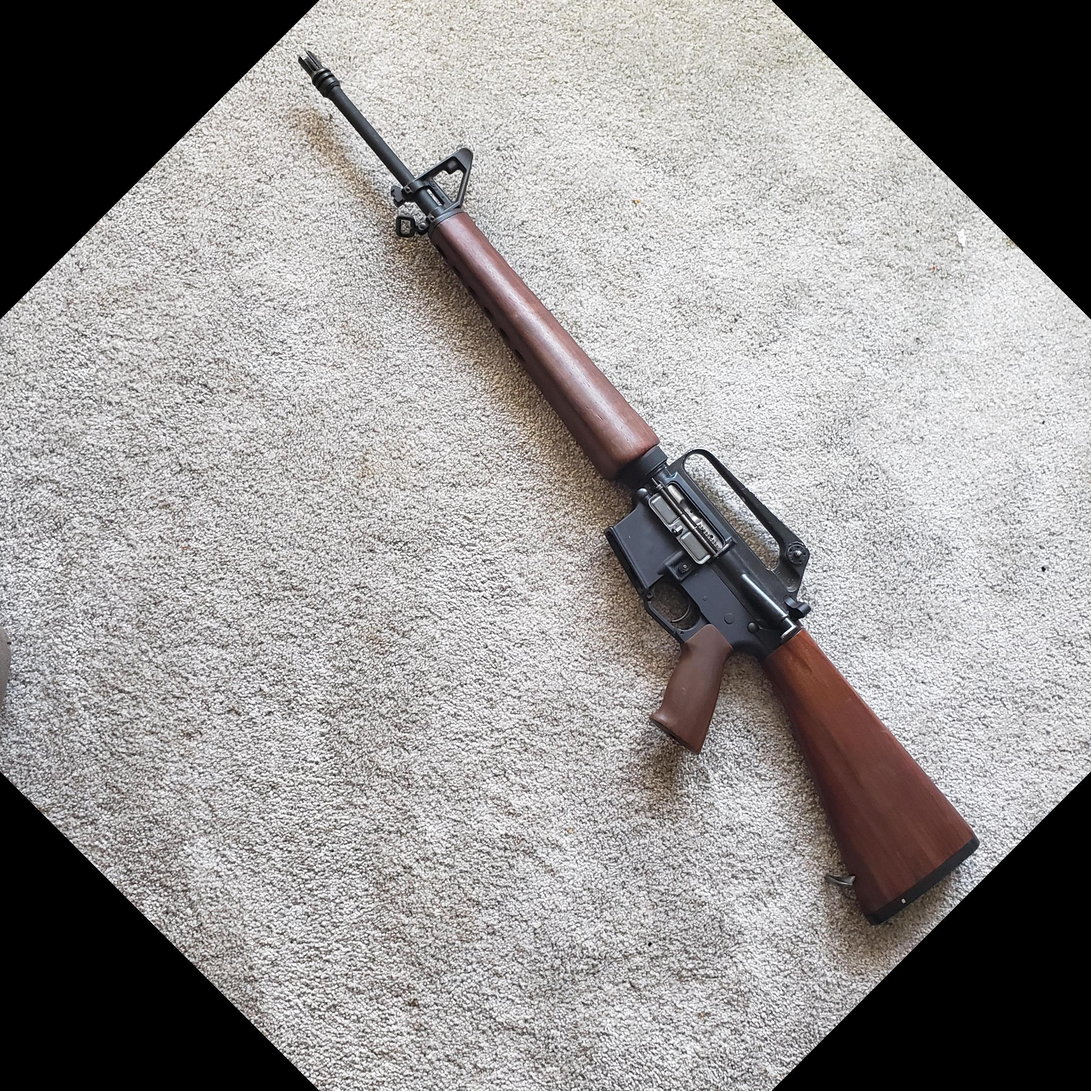larga: (295, 49, 983, 927)
